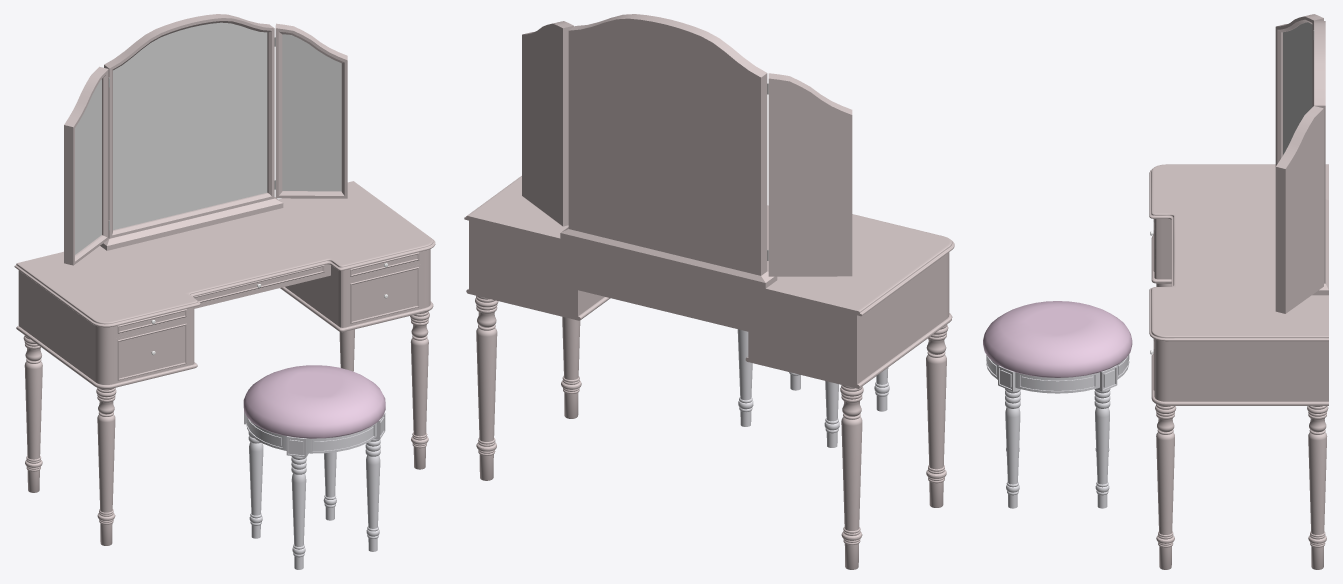
3 views of the same model, side by side, from view 1: azimuth 30°, elevation 25°; view 2: azimuth 150°, elevation 25°; view 3: azimuth 270°, elevation 25° (orthographic). The views are drawn at different scales.
Parts seen in each view (by area): view 1: Mirror_5_14, Dressing Table_0_3, Stool_1_5, Legs_2_8, Drawer.002_4_12, Drawer.001_3_10, Drawer.003_6_18; view 2: Mirror_5_14, Dressing Table_0_3, Legs_2_8, Stool_1_5; view 3: Dressing Table_0_3, Mirror_5_14, Stool_1_5, Legs_2_8.
Part boxes in pixels (x1=…): Mirror_5_14: x1=64, y1=14, x2=347, y2=265; Dressing Table_0_3: x1=14, y1=181, x2=435, y2=388; Stool_1_5: x1=243, y1=365, x2=385, y2=569; Legs_2_8: x1=23, y1=311, x2=429, y2=545; Drawer.002_4_12: x1=115, y1=264, x2=421, y2=383; Drawer.001_3_10: x1=115, y1=251, x2=421, y2=335; Drawer.003_6_18: x1=193, y1=264, x2=327, y2=304; Mirror_5_14: x1=522, y1=14, x2=852, y2=288; Dressing Table_0_3: x1=464, y1=176, x2=954, y2=388; Legs_2_8: x1=475, y1=295, x2=948, y2=569; Stool_1_5: x1=737, y1=329, x2=889, y2=447; Dressing Table_0_3: x1=1149, y1=164, x2=1328, y2=405; Mirror_5_14: x1=1275, y1=14, x2=1328, y2=313; Stool_1_5: x1=983, y1=301, x2=1132, y2=508; Legs_2_8: x1=1155, y1=283, x2=1328, y2=569.
Size of the model in its own units: 1.15 by 1.38 by 0.9611.
